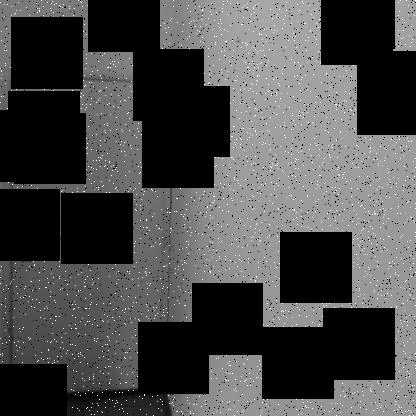Porte: (3, 65, 175, 397)
